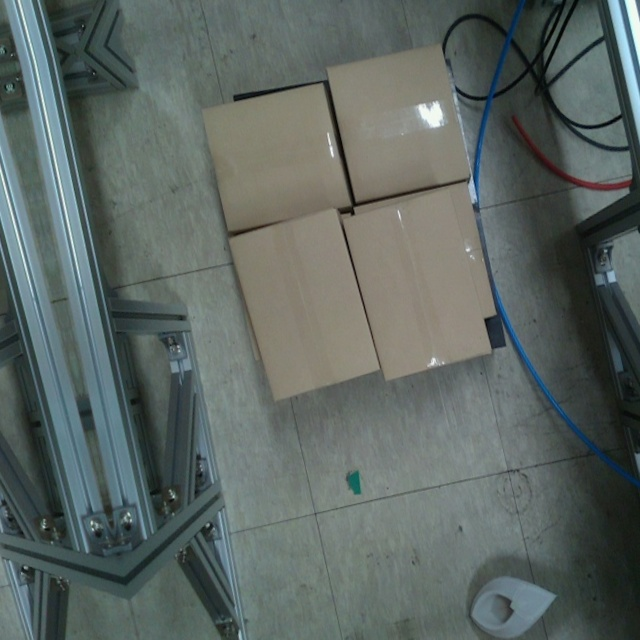box: (226, 204, 383, 405), (339, 185, 495, 384), (199, 78, 354, 236), (326, 44, 472, 206)
